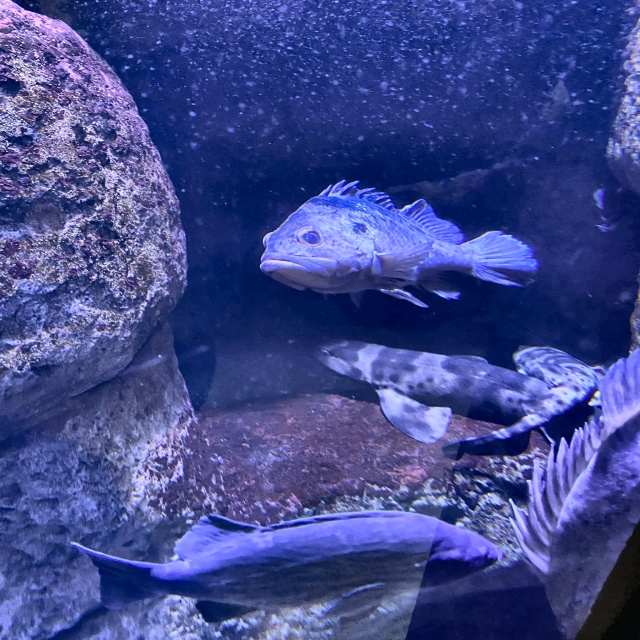fish: (71, 509, 500, 625), (258, 179, 536, 310), (310, 334, 546, 444), (445, 344, 598, 462)
